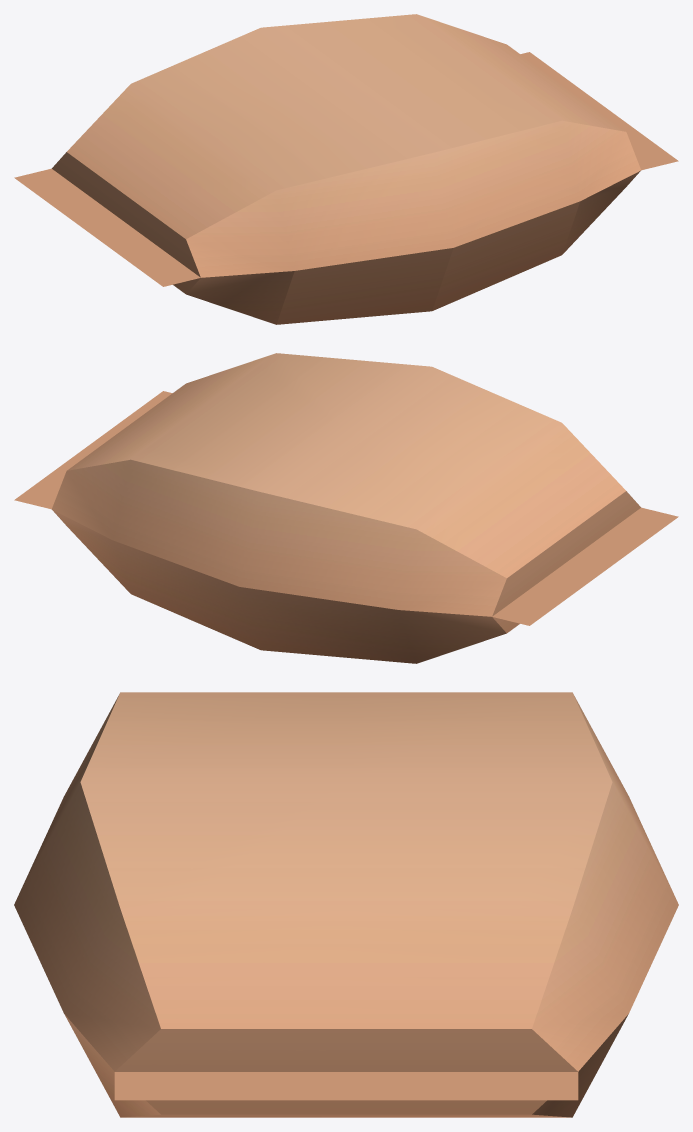
The model's file is bag-flat.glb.
The picture shows the model from 3 angles, top to bottom: view 1: azimuth 30°, elevation 25°; view 2: azimuth 150°, elevation 25°; view 3: azimuth 270°, elevation 25°; orthographic projection. The views are drawn at different scales.
Parts seen in each view (by area): view 1: bag-flat; view 2: bag-flat; view 3: bag-flat.
Boxes of the visible parts, box(x1,y1,x2,y2) form: bag-flat: box(14, 14, 678, 324); bag-flat: box(14, 353, 678, 663); bag-flat: box(14, 692, 678, 1117).
Bounding box in the file's own units: 0.65 × 0.1905 × 0.4675.
1 material, 1 textured.
